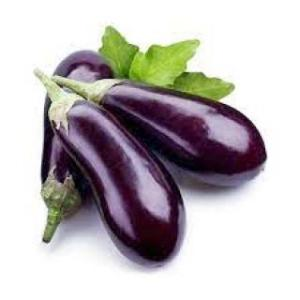eggplant: (56, 98, 186, 266), (91, 79, 266, 185), (42, 49, 116, 235)
